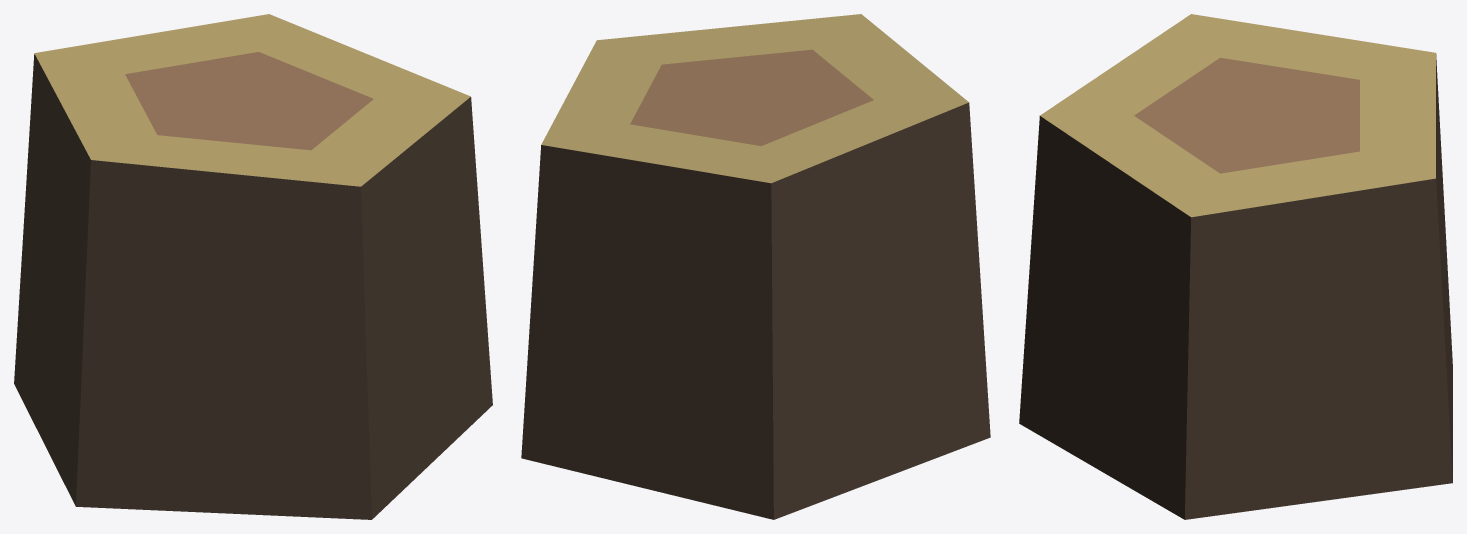
File: TB_D_Env_TrunkB_A.FBX
The picture shows the model from 3 angles, left to right: view 1: azimuth 30°, elevation 25°; view 2: azimuth 150°, elevation 25°; view 3: azimuth 270°, elevation 25°; orthographic projection. The views are drawn at different scales.
Visible parts, largest first — view 1: TB_D_Env_TrunkB_A; view 2: TB_D_Env_TrunkB_A; view 3: TB_D_Env_TrunkB_A.
Boxes of the visible parts, box(x1,y1,x2,y2) form: TB_D_Env_TrunkB_A: box(14, 14, 492, 519); TB_D_Env_TrunkB_A: box(521, 14, 990, 519); TB_D_Env_TrunkB_A: box(1019, 14, 1452, 519).
Bounding box in the file's own units: 0.7211 × 0.5615 × 0.6858.
